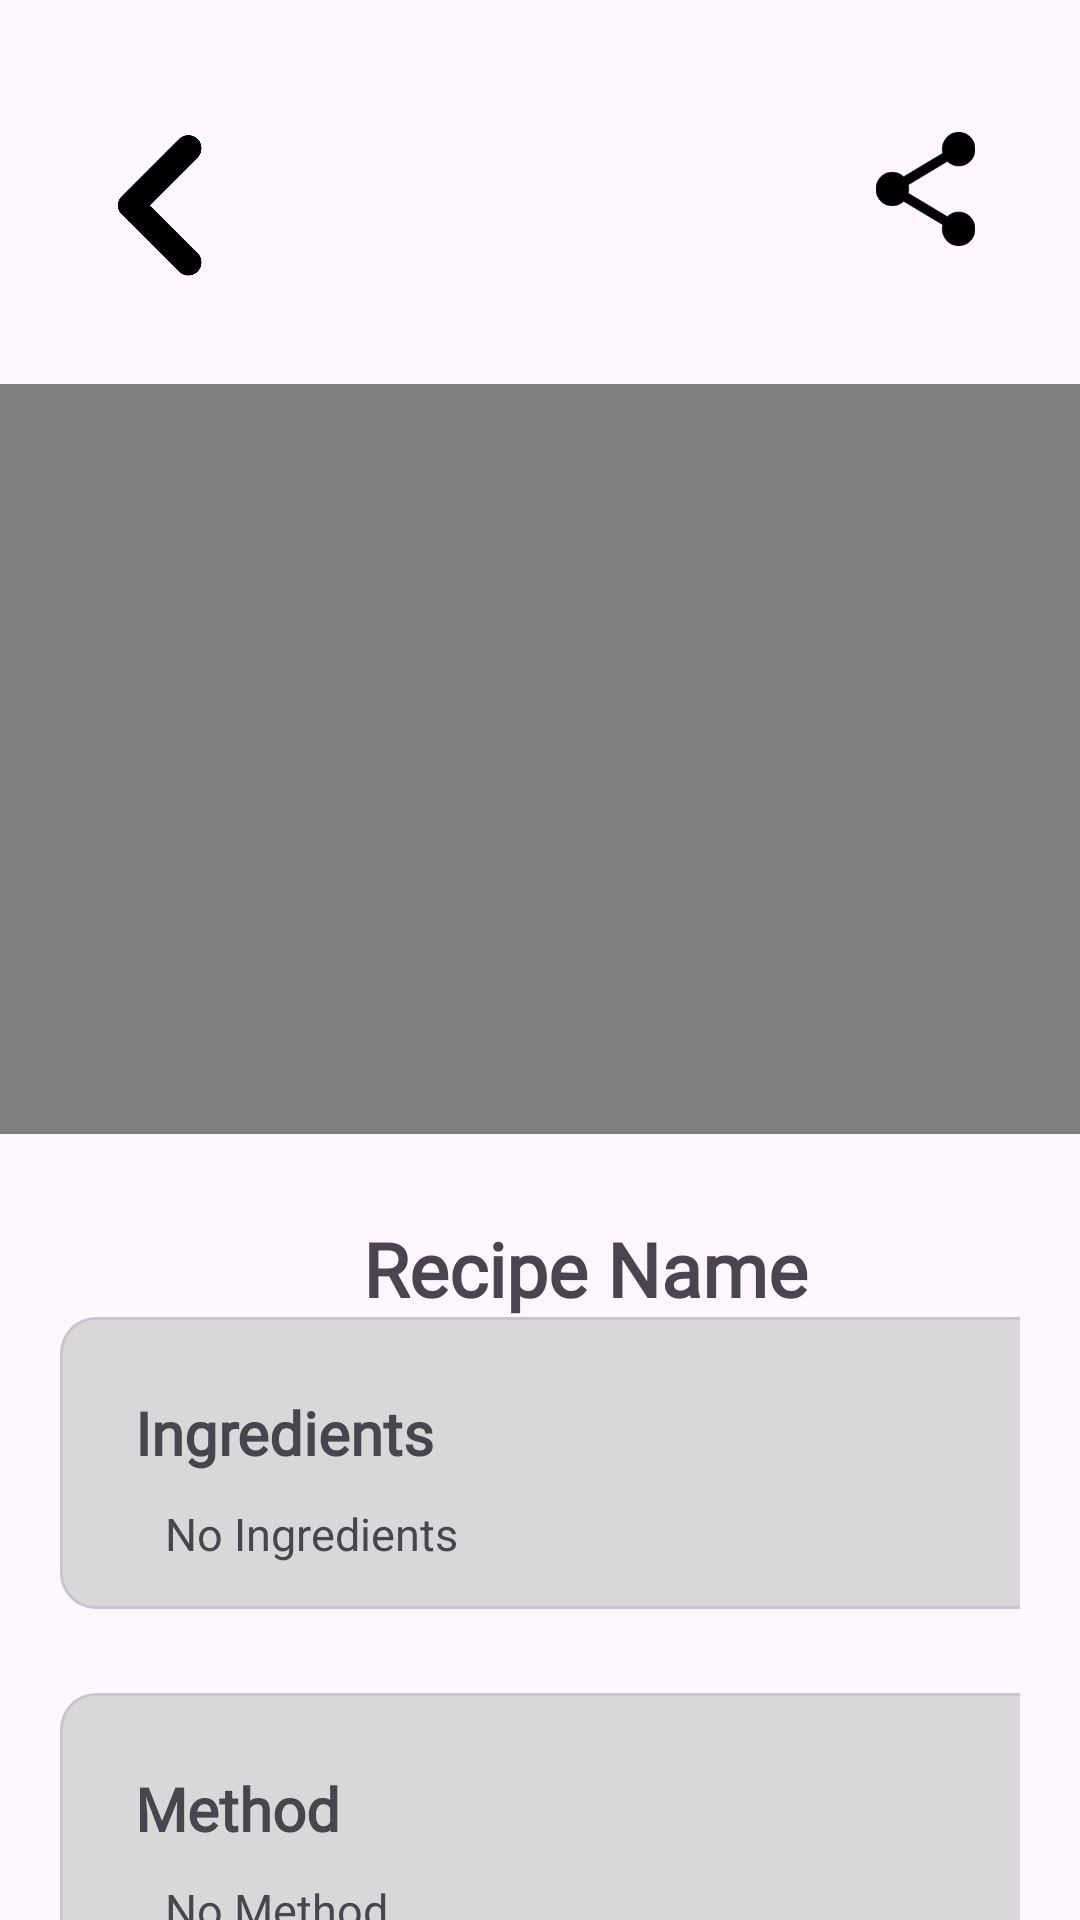

Screen size 1080px x 1920px. Icon name, then its center in pixels as point (x, y):
back: point (160, 205)
share: point (925, 189)
